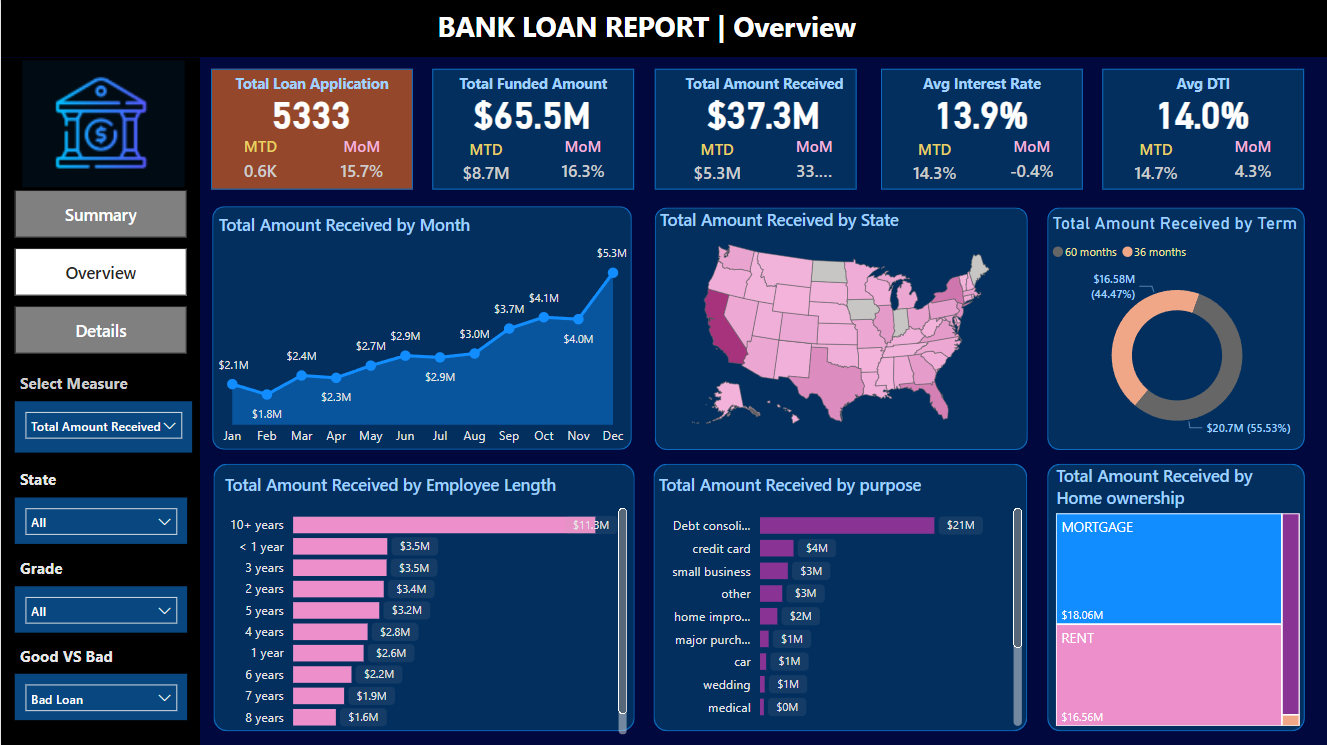

The page's visual inventory and layout, read from the dashboard file:
{"tool":"powerbi","page":{"name":"Overview","canvas":[1280,720],"ordinal":1},"visuals":[{"type":"shape","box":[0,0,1280.3,55],"z":0},{"type":"shape","box":[0,55.2,192.4,664.9],"z":1000},{"type":"textbox","box":[415.8,2.7,447.3,48],"z":2000},{"type":"group","id":"g1","title":"Group 1","box":[203.1,65.9,194.9,118],"z":3000},{"type":"shape","box":[203.1,65.9,194.9,116.6],"z":3000,"group":"g1"},{"type":"shape","box":[415.8,65.9,194.9,116.6],"z":3000,"group":"g2"},{"type":"shape","box":[630.7,65.9,194.9,116.6],"z":3000,"group":"g3"},{"type":"shape","box":[849.8,65.9,194.9,116.6],"z":3000,"group":"g4"},{"type":"shape","box":[1063.5,65.9,194.9,116.6],"z":3000,"group":"g5"},{"type":"card","fields":{"Values":["bank_loan_data.Total Loan Application"]},"box":[225.1,85.1,149.6,45.3],"z":4000,"group":"g1"},{"type":"card","fields":{"Values":["bank_loan_data.Total Funded Amount"]},"box":[437.8,85.1,149.6,45.3],"z":4000,"group":"g2"},{"type":"card","fields":{"Values":["bank_loan_data.Total Amount Received"]},"box":[661.4,85.1,149.6,45.3],"z":4000,"group":"g3"},{"type":"card","fields":{"Values":["bank_loan_data.Avg Interest Rate"]},"box":[871.8,85.1,149.6,45.3],"z":4000,"group":"g4"},{"type":"card","fields":{"Values":["bank_loan_data.Avg DTI"]},"box":[1085.5,85.1,149.6,45.3],"z":4000,"group":"g5"},{"type":"shape","box":[203.7,199.5,405,235],"z":4000},{"type":"textbox","box":[203.1,65.9,194.9,32.9],"z":5000,"group":"g1"},{"type":"group","id":"g2","title":"Group 1","box":[415.8,65.9,194.9,118],"z":5000},{"type":"textbox","box":[415.8,65.9,194.9,32.9],"z":5000,"group":"g2"},{"type":"textbox","box":[639.4,65.9,194.9,32.9],"z":5000,"group":"g3"},{"type":"textbox","box":[849.8,65.9,194.9,32.9],"z":5000,"group":"g4"},{"type":"textbox","box":[1063.5,65.9,194.9,32.9],"z":5000,"group":"g5"},{"type":"group","id":"g3","title":"Group 1","box":[630.7,65.9,203.6,118.2],"z":6000},{"type":"card","title":"MTD","fields":{"Values":["bank_loan_data.MTD Loan Application"]},"box":[225.1,130.4,52.1,53.5],"z":6000,"group":"g1"},{"type":"card","title":"MTD","fields":{"Values":["bank_loan_data.MTD Funded Amount"]},"box":[432.6,133.3,70,50.8],"z":6000,"group":"g2"},{"type":"card","title":"MTD","fields":{"Values":["bank_loan_data.MTD Total Amount Received"]},"box":[656.2,133.3,70,50.8],"z":6000,"group":"g3"},{"type":"card","title":"MTD","fields":{"Values":["bank_loan_data.MTD Avg Interest Rate"]},"box":[866.6,133.3,70,50.8],"z":6000,"group":"g4"},{"type":"card","title":"MTD","fields":{"Values":["bank_loan_data.MTD Avg DTI"]},"box":[1080.3,133.3,70,50.8],"z":6000,"group":"g5"},{"type":"group","id":"g4","title":"Group 1","box":[849.8,65.9,194.9,118],"z":7000},{"type":"card","title":"MoM","fields":{"Values":["bank_loan_data.MoM Loan Application"]},"box":[322.5,130.4,52.1,53.5],"z":7000,"group":"g1"},{"type":"card","title":"MoM","fields":{"Values":["bank_loan_data.MoM Total Funded Amount"]},"box":[535.2,130.4,52.1,53.5],"z":7000,"group":"g2"},{"type":"card","title":"MoM","fields":{"Values":["bank_loan_data.MoM Total Amount Received"]},"box":[758.8,130.4,52.1,53.5],"z":7000,"group":"g3"},{"type":"card","title":"MoM","fields":{"Values":["bank_loan_data.MoM Avg Interest Rate"]},"box":[969.2,130.4,52.1,53.5],"z":7000,"group":"g4"},{"type":"card","title":"MoM","fields":{"Values":["bank_loan_data.MoM Avg DTI"]},"box":[1182.9,130.4,52.1,53.5],"z":7000,"group":"g5"},{"type":"group","id":"g5","title":"Group 1","box":[1063.5,65.9,194.9,118],"z":8000},{"type":"shape","box":[205.1,447.6,406.6,258.2],"z":9000},{"type":"slicer","fields":{"Values":["bank_loan_data.address_state"]},"box":[13.3,480.2,166.5,44.6],"z":10000},{"type":"textbox","box":[13.3,447.6,65.1,32.6],"z":11000},{"type":"slicer","fields":{"Values":["bank_loan_data.address_state"]},"box":[13.3,565.8,166.5,44.6],"z":12000},{"type":"slicer","fields":{"Values":["bank_loan_data.GOOD VS BAD loan"]},"box":[13.3,650.3,166.5,44.6],"z":13000},{"type":"textbox","box":[13.3,533.2,65.1,32.6],"z":14000},{"type":"textbox","box":[13.3,617.7,121.9,32.6],"z":15000},{"type":"areaChart","fields":{"Y":["bank_loan_data.Total Amount Received"],"Category":["Date Table.Month"]},"box":[205.1,205.1,404.2,234],"z":16000},{"type":"slicer","fields":{"Values":["Select Measure.Select Measure"]},"box":[13.3,387.3,171.3,49.5],"z":17000},{"type":"textbox","box":[13.3,354.7,139.9,32.6],"z":18000},{"type":"shape","box":[631,200.3,360,234],"z":19000},{"type":"shapeMap","fields":{"Value":["bank_loan_data.Total Amount Received"],"Category":["bank_loan_data.address_state"]},"box":[631,200.3,359.5,223.2],"z":20000},{"type":"shape","box":[1009.8,200.3,248.5,234],"z":21000},{"type":"donutChart","fields":{"Y":["bank_loan_data.Total Amount Received"],"Category":["bank_loan_data.term"]},"box":[1009.8,205.1,250.9,229.2],"z":22000},{"type":"barChart","fields":{"Y":["bank_loan_data.Total Amount Received"],"Category":["bank_loan_data.emp_length"]},"box":[211.1,456,398.1,258.2],"z":23000},{"type":"shape","box":[629.8,447.6,360.7,258.2],"z":24000},{"type":"barChart","fields":{"Y":["bank_loan_data.Total Amount Received"],"Category":["bank_loan_data.purpose"]},"box":[629.8,456,360.7,249.7],"z":25000},{"type":"shape","box":[1009.8,447.6,248.5,258.2],"z":26000},{"type":"treemap","fields":{"Values":["bank_loan_data.Total Amount Received"],"Group":["bank_loan_data.home_ownership"]},"box":[1013.4,447.6,244.9,258.2],"z":27000},{"type":"pageNavigator","box":[13.3,183.4,166.5,159.3],"z":28000},{"type":"image","box":[15.7,39.8,166.5,159.3],"z":29000}]}

Visuals, with their boxes in screenshot pixels (x1, y1, x2, y2), scaled from the page's 1280x720 canvas onto the 1327x745 screenshot:
shape: BBox(0, 0, 1326, 57)
shape: BBox(0, 57, 199, 744)
textbox: BBox(431, 3, 895, 52)
"Group 1" group: BBox(211, 68, 413, 190)
shape: BBox(211, 68, 413, 189)
shape: BBox(431, 68, 633, 189)
shape: BBox(654, 68, 856, 189)
shape: BBox(881, 68, 1083, 189)
shape: BBox(1103, 68, 1305, 189)
card - bank_loan_data.Total Loan Application: BBox(233, 88, 388, 135)
card - bank_loan_data.Total Funded Amount: BBox(454, 88, 609, 135)
card - bank_loan_data.Total Amount Received: BBox(686, 88, 841, 135)
card - bank_loan_data.Avg Interest Rate: BBox(904, 88, 1059, 135)
card - bank_loan_data.Avg DTI: BBox(1125, 88, 1280, 135)
shape: BBox(211, 206, 631, 450)
textbox: BBox(211, 68, 413, 102)
"Group 1" group: BBox(431, 68, 633, 190)
textbox: BBox(431, 68, 633, 102)
textbox: BBox(663, 68, 865, 102)
textbox: BBox(881, 68, 1083, 102)
textbox: BBox(1103, 68, 1305, 102)
"Group 1" group: BBox(654, 68, 865, 190)
"MTD" card: BBox(233, 135, 287, 190)
"MTD" card: BBox(448, 138, 521, 190)
"MTD" card: BBox(680, 138, 753, 190)
"MTD" card: BBox(898, 138, 971, 190)
"MTD" card: BBox(1120, 138, 1193, 190)
"Group 1" group: BBox(881, 68, 1083, 190)
"MoM" card: BBox(334, 135, 388, 190)
"MoM" card: BBox(555, 135, 609, 190)
"MoM" card: BBox(787, 135, 841, 190)
"MoM" card: BBox(1005, 135, 1059, 190)
"MoM" card: BBox(1226, 135, 1280, 190)
"Group 1" group: BBox(1103, 68, 1305, 190)
shape: BBox(213, 463, 634, 730)
slicer - bank_loan_data.address_state: BBox(14, 497, 186, 543)
textbox: BBox(14, 463, 81, 497)
slicer - bank_loan_data.address_state: BBox(14, 585, 186, 632)
slicer - bank_loan_data.GOOD VS BAD loan: BBox(14, 673, 186, 719)
textbox: BBox(14, 552, 81, 585)
textbox: BBox(14, 639, 140, 673)
areaChart - bank_loan_data.Total Amount Received x Date Table.Month: BBox(213, 212, 632, 454)
slicer - Select Measure.Select Measure: BBox(14, 401, 191, 452)
textbox: BBox(14, 367, 159, 401)
shape: BBox(654, 207, 1027, 449)
shapeMap - bank_loan_data.Total Amount Received x bank_loan_data.address_state: BBox(654, 207, 1027, 438)
shape: BBox(1047, 207, 1305, 449)
donutChart - bank_loan_data.Total Amount Received x bank_loan_data.term: BBox(1047, 212, 1307, 449)
barChart - bank_loan_data.Total Amount Received x bank_loan_data.emp_length: BBox(219, 472, 632, 739)
shape: BBox(653, 463, 1027, 730)
barChart - bank_loan_data.Total Amount Received x bank_loan_data.purpose: BBox(653, 472, 1027, 730)
shape: BBox(1047, 463, 1305, 730)
treemap - bank_loan_data.Total Amount Received x bank_loan_data.home_ownership: BBox(1051, 463, 1305, 730)
pageNavigator: BBox(14, 190, 186, 355)
image: BBox(16, 41, 189, 206)
